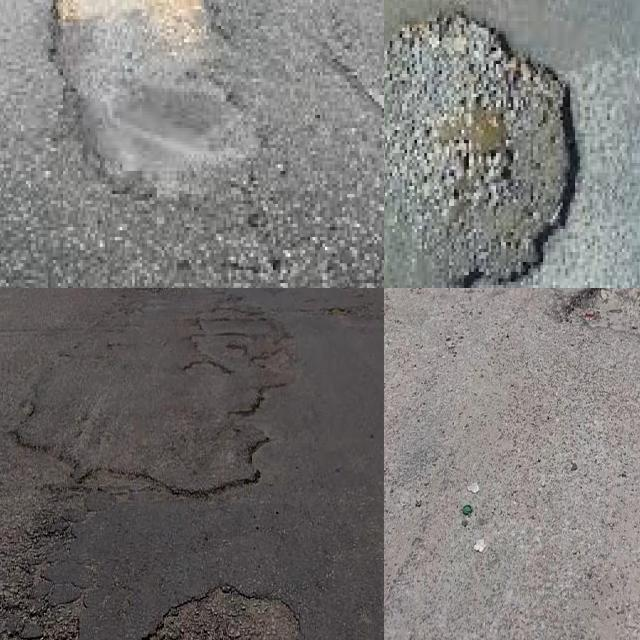Pothole: (384, 11, 580, 288), (48, 0, 224, 171), (150, 587, 297, 640), (569, 288, 640, 342)
